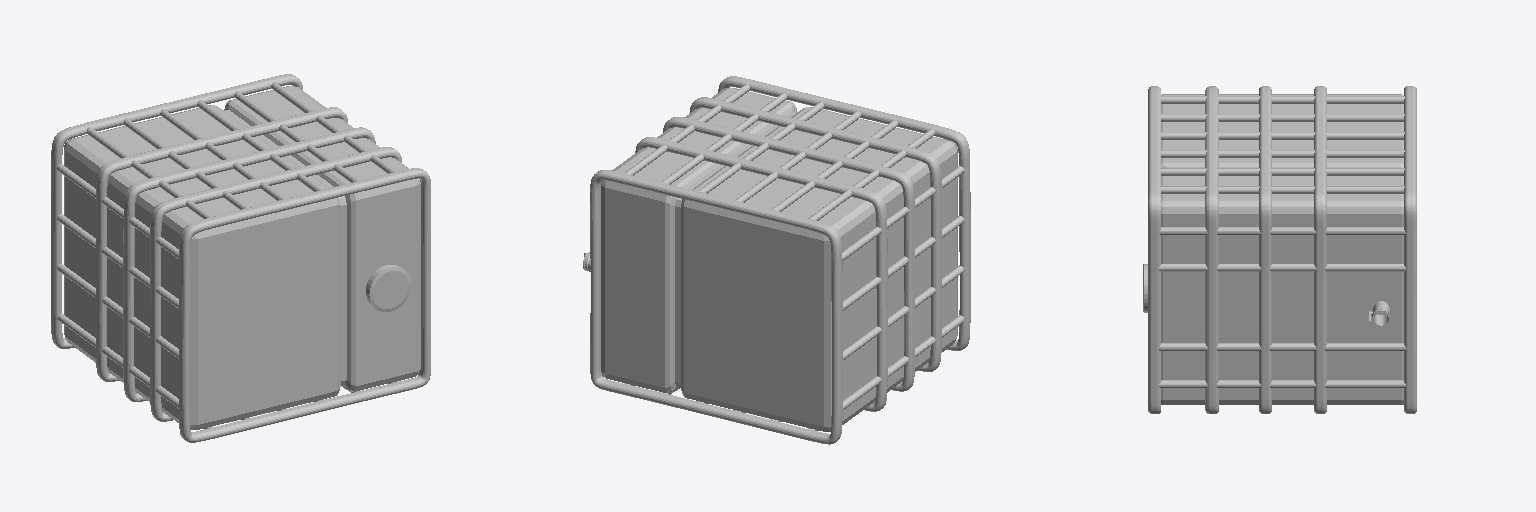
Rendered from tanqueAlmacenamientoCerveza.obj.
3 renders of one model, left to right at view 1: azimuth 30°, elevation 25°; view 2: azimuth 150°, elevation 25°; view 3: azimuth 270°, elevation 25°, orthographic.
Visible parts, largest first — view 1: Cube, NurbsPath.004, Cylinder, Cylinder.006; view 2: Cube, NurbsPath.004, Cylinder; view 3: Cube, NurbsPath.004, Cylinder.
Boxes of the visible parts, x1,y1,x2,y2 form: Cube: [64, 86, 420, 429]; NurbsPath.004: [51, 74, 430, 442]; Cylinder: [56, 82, 397, 429]; Cylinder.006: [366, 265, 411, 311]; Cube: [601, 88, 957, 431]; NurbsPath.004: [590, 76, 970, 444]; Cylinder: [624, 84, 964, 430]; Cube: [1161, 94, 1403, 404]; NurbsPath.004: [1148, 86, 1416, 413]; Cylinder: [1158, 96, 1406, 387].
Bounding box in the file's own units: 1.42 × 1.08 × 1.22.